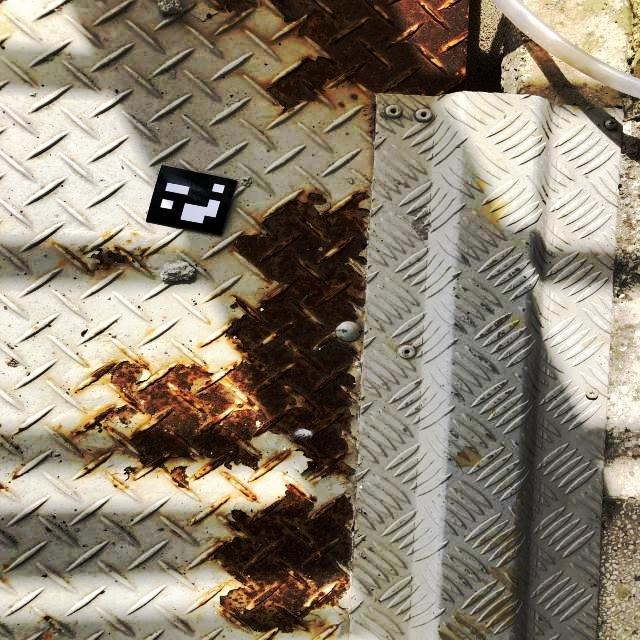Corrosion: (71, 186, 371, 493), (263, 0, 470, 139), (199, 479, 355, 640), (59, 246, 149, 274), (190, 0, 259, 26), (82, 446, 139, 475), (220, 471, 260, 504), (104, 464, 139, 491), (310, 620, 346, 640), (63, 437, 86, 458), (190, 510, 216, 526), (209, 495, 232, 510), (102, 230, 117, 242), (41, 615, 55, 627), (11, 469, 22, 480), (115, 437, 126, 447), (0, 482, 9, 492), (94, 328, 104, 336), (16, 427, 27, 434), (249, 475, 260, 481), (349, 94, 359, 100), (3, 564, 12, 570), (317, 622, 326, 627), (338, 102, 345, 108), (129, 232, 138, 236), (282, 471, 287, 477), (32, 325, 38, 330), (58, 424, 62, 431), (259, 2, 263, 7), (127, 240, 132, 243), (1, 443, 4, 447), (0, 423, 2, 428), (346, 132, 348, 135), (223, 635, 225, 638)
